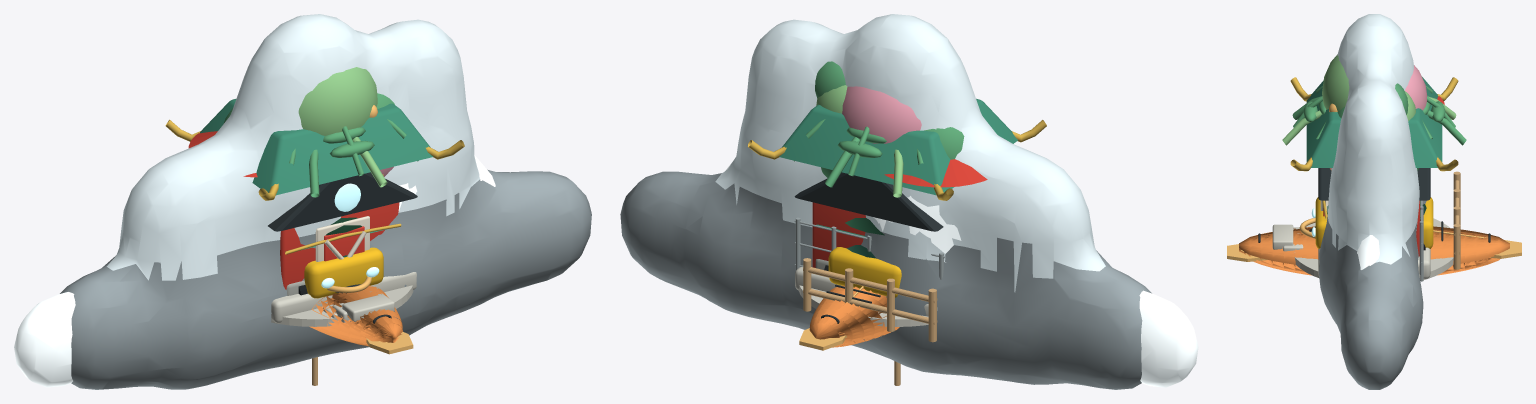
File: places-world.glb
The picture shows the model from 3 angles, left to right: view 1: azimuth 30°, elevation 25°; view 2: azimuth 150°, elevation 25°; view 3: azimuth 270°, elevation 25°; orthographic projection. The views are drawn at different scales.
Visible parts, largest first — view 1: cloud_storm sculpt, ambient_korean-pavilion_mesh, ambient_barn_mesh, cloud_stratus sculpt, scenery_malatya_mesh, kayak_mesh, scenery_new-york_mesh, tree_palm_mesh, scenery_chicago_mesh, landmark_palm_mesh, paddle_mesh, scenery_osaka_mesh; view 2: cloud_storm sculpt, ambient_barn_mesh, ambient_korean-pavilion_mesh, cloud_stratus sculpt, tree_blossom_mesh, kayak_mesh, scenery_new-york_mesh, scenery_malatya_mesh, tree_palm_mesh, cloud_cumulus sculpt, scenery_new-jersey_mesh, scenery_korean-dmz_mesh (+4 smaller); view 3: cloud_storm sculpt, ambient_korean-pavilion_mesh, kayak_mesh, ambient_barn_mesh, scenery_malatya_mesh, scenery_new-york_mesh, tree_palm_mesh, scenery_chicago_mesh, landmark_palm_mesh, tree_blossom_mesh, paddle_mesh, cloud_stratus sculpt (+1 smaller).
Boxes of the visible parts, x1,y1,x2,y2 form: cloud_storm sculpt: (60, 14, 591, 389); ambient_korean-pavilion_mesh: (165, 99, 464, 323); ambient_barn_mesh: (268, 172, 417, 289); cloud_stratus sculpt: (14, 155, 495, 387); scenery_malatya_mesh: (223, 67, 394, 175); kayak_mesh: (309, 276, 402, 346); scenery_new-york_mesh: (298, 247, 383, 298); tree_palm_mesh: (289, 119, 406, 176); scenery_chicago_mesh: (271, 285, 413, 326); landmark_palm_mesh: (309, 137, 418, 197); paddle_mesh: (312, 332, 413, 385); scenery_osaka_mesh: (285, 223, 401, 295); cloud_storm sculpt: (620, 14, 1151, 389); ambient_barn_mesh: (794, 172, 943, 342); ambient_korean-pavilion_mesh: (748, 98, 1046, 316); cloud_stratus sculpt: (725, 163, 1198, 387); tree_blossom_mesh: (816, 85, 921, 143); kayak_mesh: (809, 284, 899, 347); scenery_new-york_mesh: (824, 247, 901, 297); scenery_malatya_mesh: (815, 61, 964, 159); tree_palm_mesh: (806, 119, 923, 176); cloud_cumulus sculpt: (873, 196, 961, 262); scenery_new-jersey_mesh: (884, 159, 987, 187); scenery_korean-dmz_mesh: (794, 217, 944, 279); cloud_storm sculpt: (1319, 14, 1426, 389); ambient_korean-pavilion_mesh: (1272, 77, 1458, 278); kayak_mesh: (1239, 217, 1509, 275); ambient_barn_mesh: (1318, 168, 1460, 269); scenery_malatya_mesh: (1322, 54, 1408, 170); scenery_new-york_mesh: (1311, 197, 1433, 250); tree_palm_mesh: (1293, 86, 1455, 139); scenery_chicago_mesh: (1294, 218, 1453, 279); landmark_palm_mesh: (1282, 96, 1466, 145); tree_blossom_mesh: (1330, 65, 1427, 169); paddle_mesh: (1227, 240, 1521, 261); cloud_stratus sculpt: (1357, 235, 1379, 269).
Size of the model in its own units: 1.91 by 1.18 by 1.
